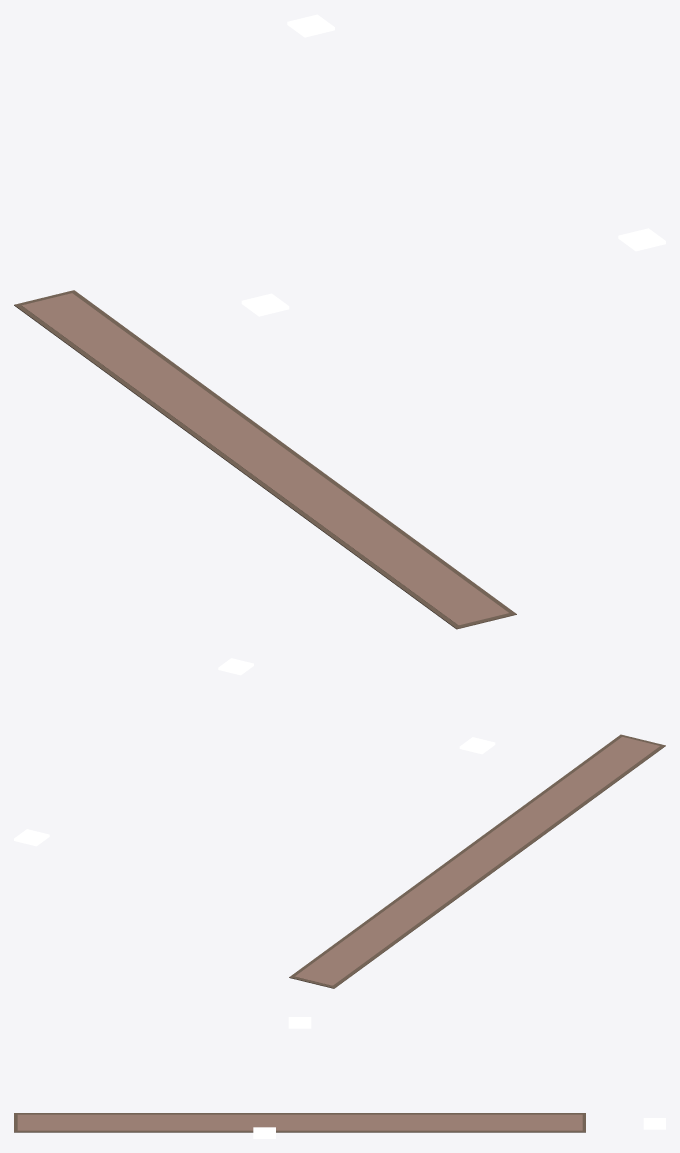
File: fine-s0.glb
3 views of the same model, one above another, from view 1: azimuth 30°, elevation 25°; view 2: azimuth 150°, elevation 25°; view 3: azimuth 270°, elevation 25° (orthographic). The views are drawn at different scales.
Parts seen in each view (by area): view 1: soft-s0; view 2: soft-s0; view 3: soft-s0, ceiling-lamp.000, ceiling-lamp.001, ceiling-lamp.002.
Boxes of the visible parts, bbox=[...] form: soft-s0: bbox=[14, 290, 516, 629]; soft-s0: bbox=[289, 734, 665, 988]; soft-s0: bbox=[14, 1113, 585, 1132]; ceiling-lamp.000: bbox=[288, 1017, 311, 1028]; ceiling-lamp.001: bbox=[643, 1118, 665, 1129]; ceiling-lamp.002: bbox=[253, 1127, 275, 1138].
Size of the model in its own units: 6.55 by 2.49 by 14.5.
